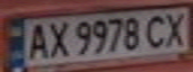7: (106, 15, 127, 53)
8: (121, 13, 145, 51)
9: (90, 16, 112, 55), (72, 17, 93, 56)
A: (24, 20, 51, 61)
C: (142, 11, 172, 50)
X: (160, 9, 193, 47), (45, 19, 72, 60)
